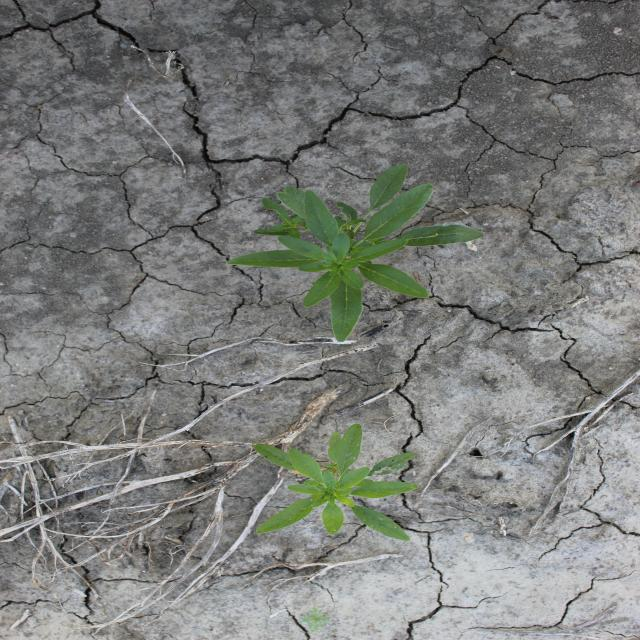Waterhemp: (223, 162, 487, 344), (252, 422, 422, 543)
